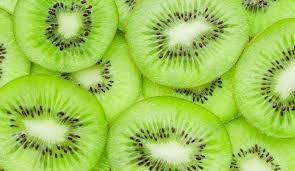apple: (1, 0, 294, 171), (125, 0, 251, 89), (0, 74, 108, 171)
apricot: (1, 0, 294, 170), (125, 0, 251, 89), (0, 74, 108, 170), (12, 0, 118, 73)
banana: (0, 0, 294, 171), (125, 0, 251, 89), (0, 74, 108, 171), (107, 95, 233, 171), (13, 0, 119, 73), (233, 17, 295, 139)
cat: (1, 0, 294, 171)
cherry: (1, 0, 294, 171)
grapes: (0, 0, 294, 171), (125, 0, 251, 89)
kiwi: (1, 0, 294, 171)
melon: (1, 0, 294, 170)
potato: (1, 0, 294, 171)
